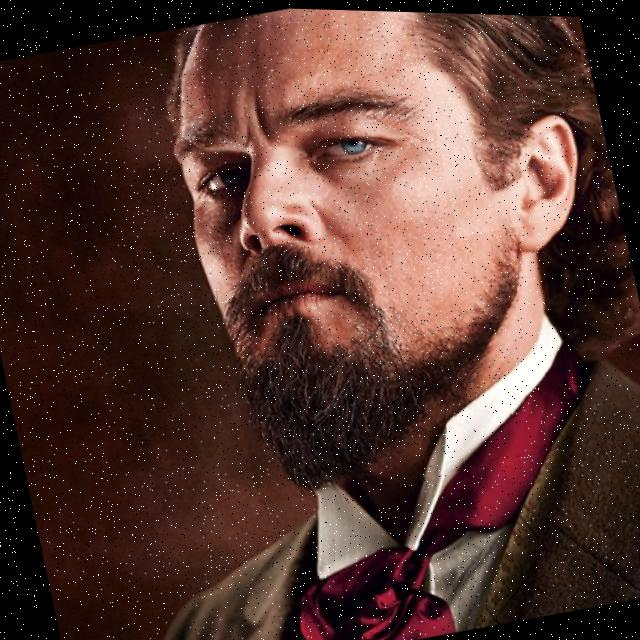beard: (222, 244, 526, 493)
hair: (413, 10, 592, 213)
